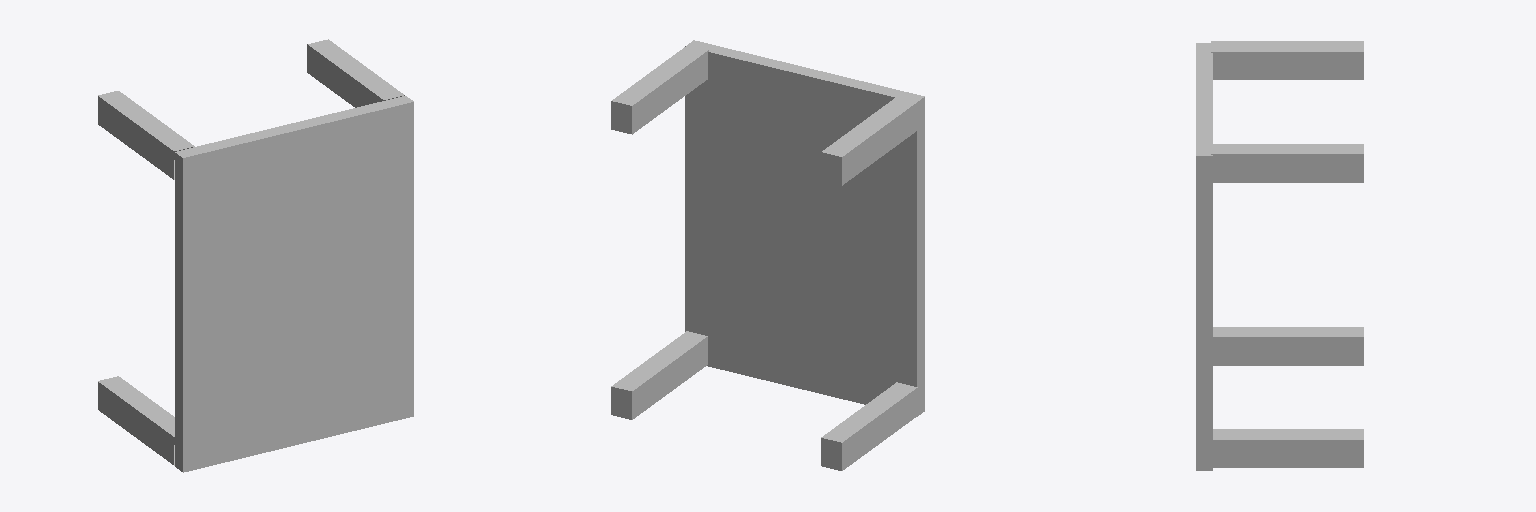
File: tavolo.obj
3 views of the same model, side by side, from view 1: azimuth 30°, elevation 25°; view 2: azimuth 150°, elevation 25°; view 3: azimuth 270°, elevation 25° (orthographic).
Visible parts, largest first — view 1: tavolo_Leg_low_Cube.002; view 2: tavolo_Leg_low_Cube.002; view 3: tavolo_Leg_low_Cube.002.
Boxes of the visible parts, x1,y1,x2,y2 form: tavolo_Leg_low_Cube.002: [98, 39, 413, 472]; tavolo_Leg_low_Cube.002: [611, 40, 924, 470]; tavolo_Leg_low_Cube.002: [1196, 41, 1363, 470].
Size of the model in its own units: 5.53 by 7.18 by 3.47.